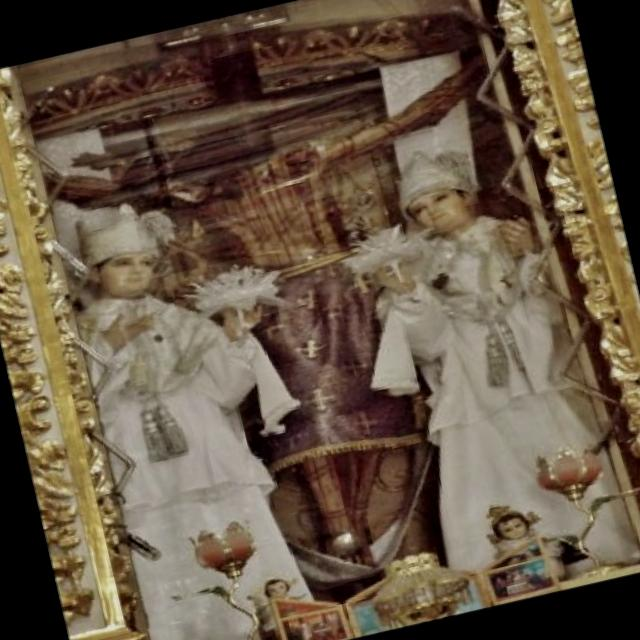Person: (46, 162, 335, 640), (355, 120, 640, 601), (480, 492, 570, 592), (253, 568, 303, 608)
